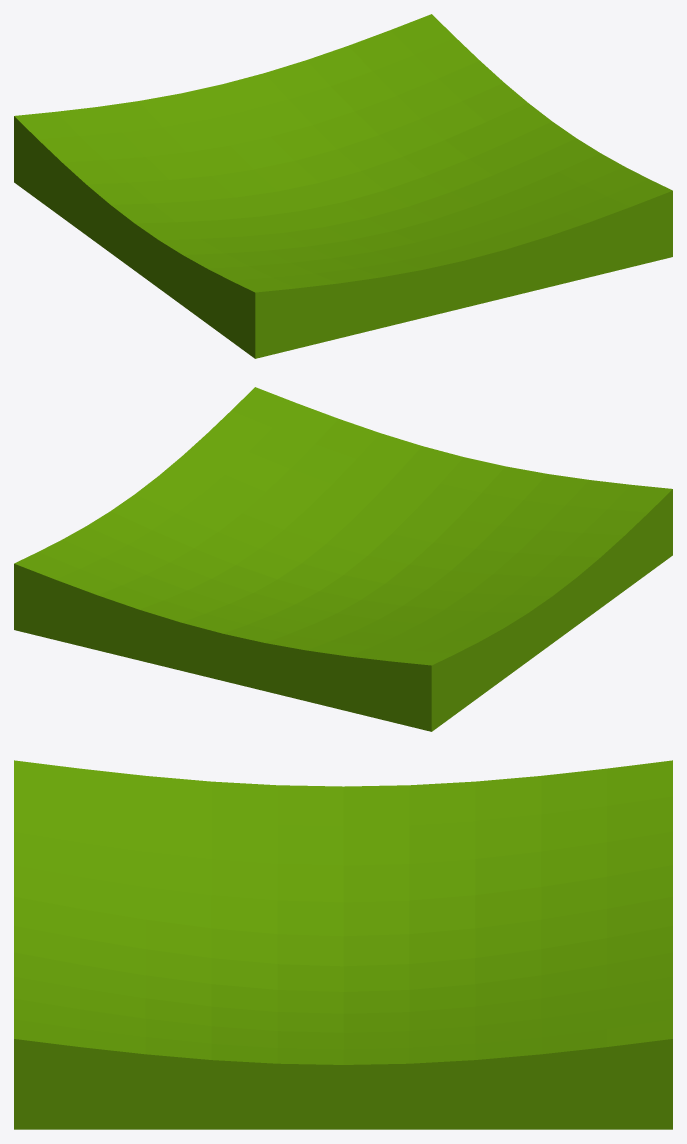
File: TileGround_39.fbx
3 views of the same model, one above another, from view 1: azimuth 30°, elevation 25°; view 2: azimuth 150°, elevation 25°; view 3: azimuth 270°, elevation 25° (orthographic). The views are drawn at different scales.
Parts seen in each view (by area): view 1: TileGround_39; view 2: TileGround_39; view 3: TileGround_39.
Part boxes in pixels (bbox=[...]): TileGround_39: bbox=[14, 14, 672, 358]; TileGround_39: bbox=[14, 387, 672, 731]; TileGround_39: bbox=[14, 760, 672, 1129].
Bounding box in the file's own units: 500 × 75.95 × 500.
